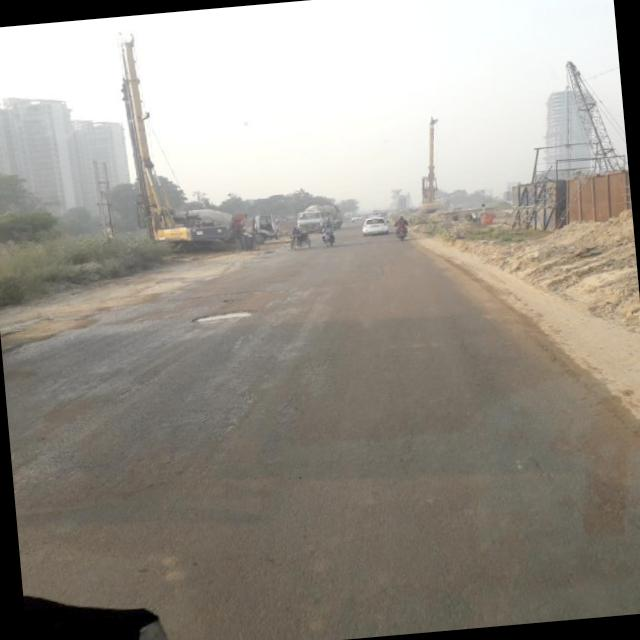pothole: (184, 296, 262, 340)
